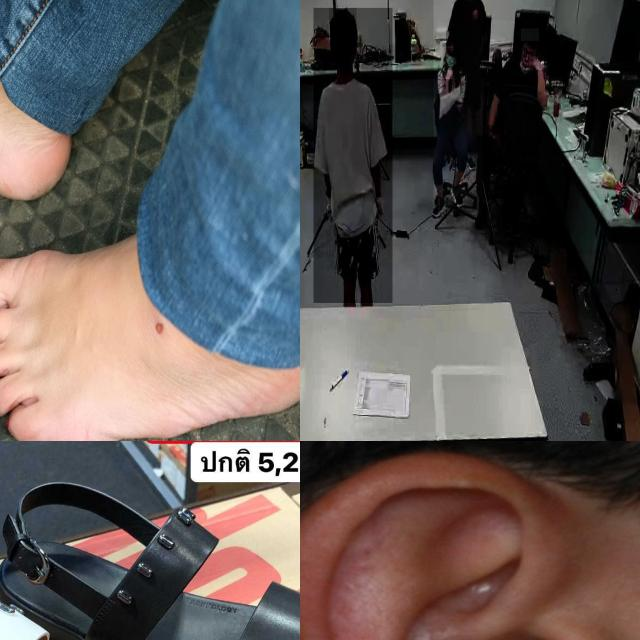Barefoots: (0, 235, 300, 441), (0, 16, 71, 201)
No_Ear-Protection: (300, 447, 640, 640)
Sandals: (0, 465, 300, 640), (0, 568, 294, 640)
face_mask: (445, 48, 461, 70)
hand_noglove: (486, 126, 504, 148), (529, 56, 545, 71), (444, 65, 454, 80)
head_nohelmet: (329, 8, 357, 31), (521, 28, 539, 42), (446, 30, 458, 47)
person: (313, 8, 393, 304), (433, 0, 482, 215), (493, 21, 551, 158), (445, 0, 489, 110)
shoes: (448, 176, 465, 208)
